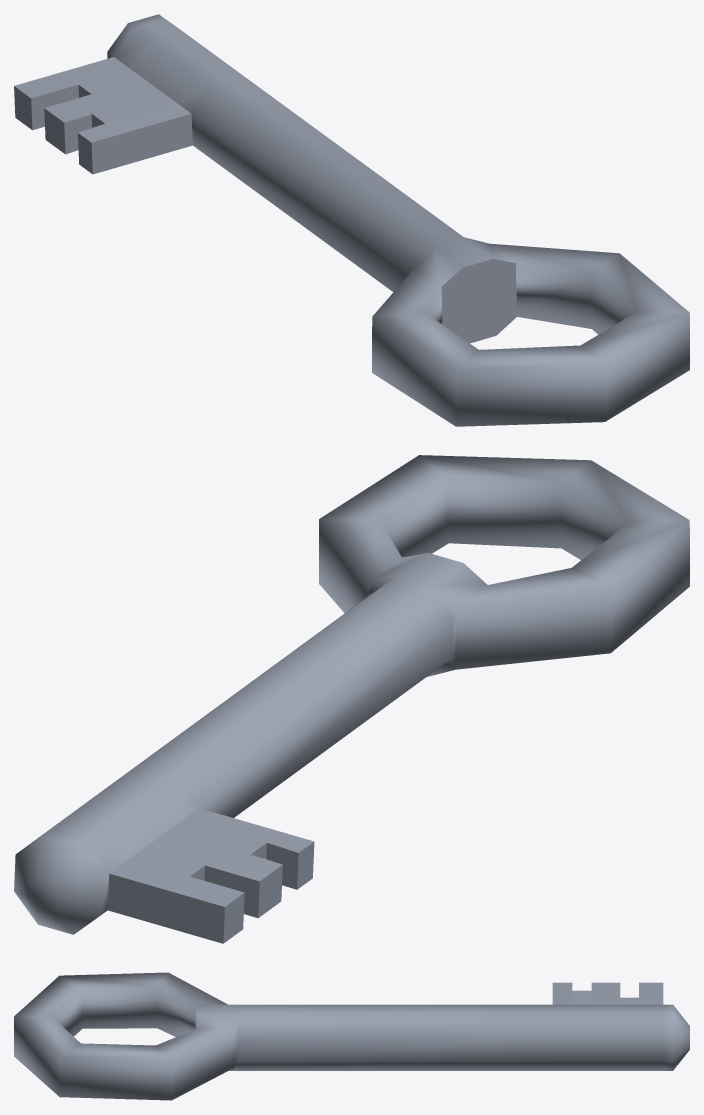
File: key.fbx
3 renders of one model, top to bottom at view 1: azimuth 30°, elevation 25°; view 2: azimuth 150°, elevation 25°; view 3: azimuth 270°, elevation 25°, orthographic. The views are drawn at different scales.
Visible parts, largest first — view 1: key; view 2: key; view 3: key.
Part boxes in pixels (x1,y1,x2,y2): key: [14, 14, 689, 426]; key: [14, 455, 689, 943]; key: [14, 972, 689, 1100].
Size of the model in its own units: 3.27 by 10.19 by 0.9397.
